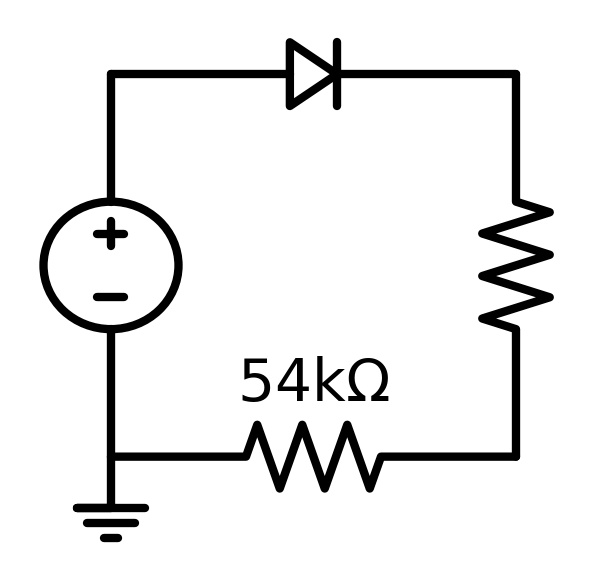diode: (272, 26, 351, 114)
ground: (71, 493, 151, 549)
resistor: (465, 187, 561, 341), (235, 412, 391, 499)
sourcedc: (35, 195, 187, 336)
